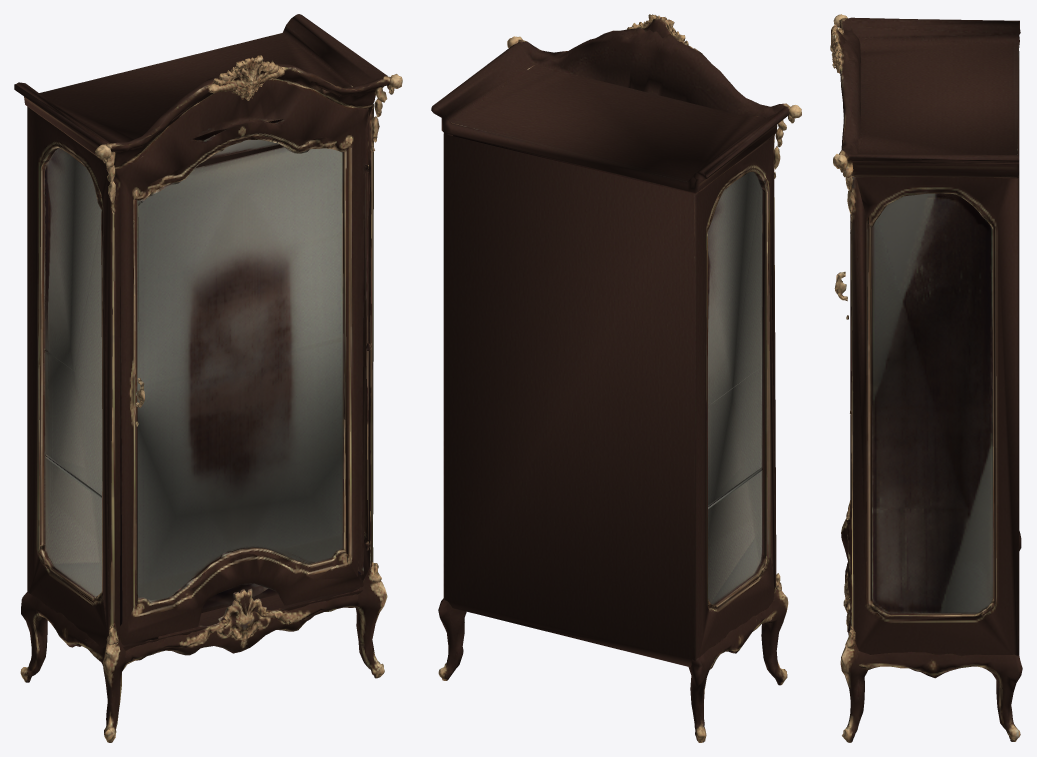
Rendered from rrr_prop_vitrine_v1.glb.
The picture shows the model from 3 angles, left to right: view 1: azimuth 30°, elevation 25°; view 2: azimuth 150°, elevation 25°; view 3: azimuth 270°, elevation 25°; orthographic projection. The views are drawn at different scales.
Parts seen in each view (by area): view 1: Mesh_0.001; view 2: Mesh_0.001; view 3: Mesh_0.001.
Boxes of the visible parts, <box> form: Mesh_0.001: <box>14,14,402,742</box>; Mesh_0.001: <box>431,14,801,742</box>; Mesh_0.001: <box>830,14,1022,742</box>.
Size of the model in its own units: 0.9727 by 2 by 0.5391.
1 material, 1 textured.
